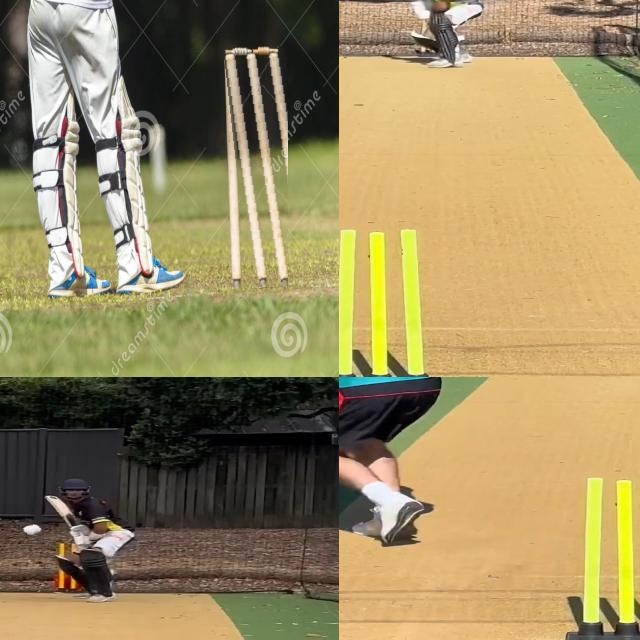Cricket ball: (21, 524, 43, 538)
Stumps: (223, 46, 288, 288), (339, 229, 441, 377), (565, 474, 640, 640)
